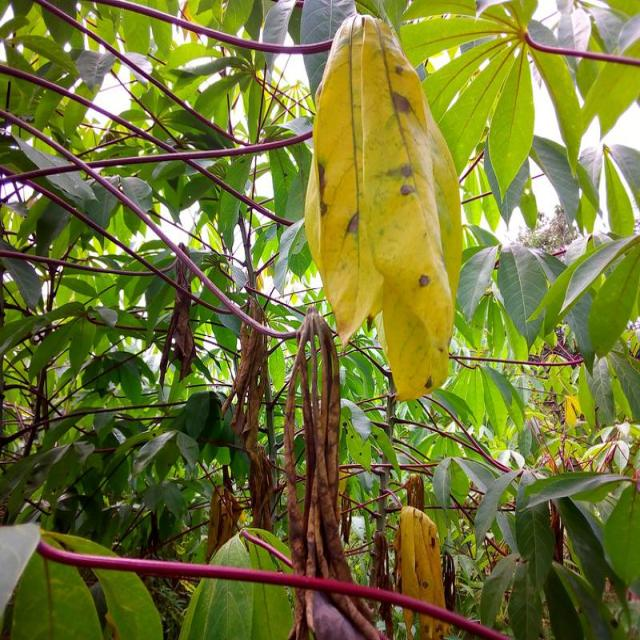cassava leaf: (302, 12, 463, 401), (178, 526, 294, 639)
